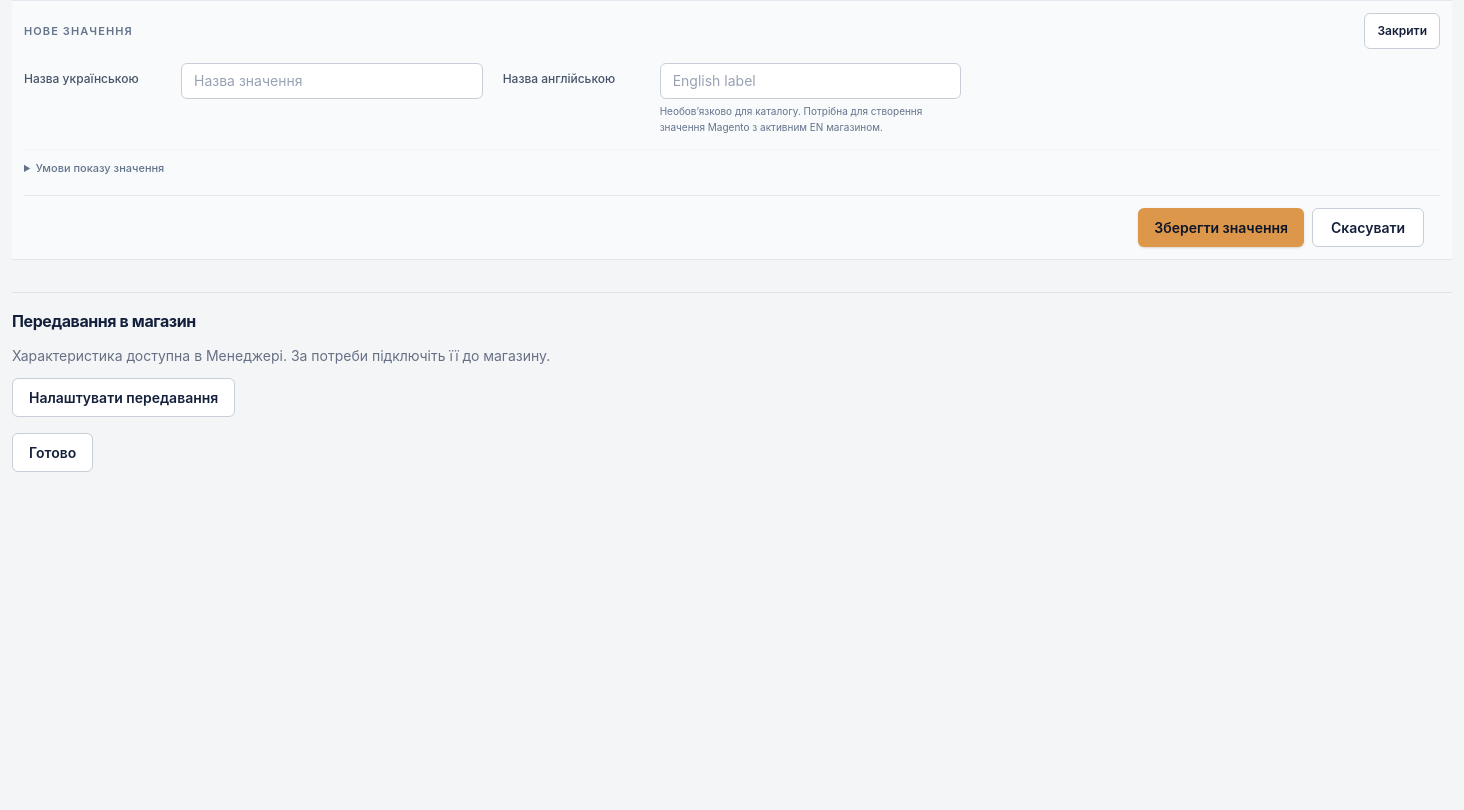
Test: retains the exact newly created value and the local receipt after a failed shop handoff
Step 1. Type "Без кольору" into the field labelled "Назва українською" → (332, 81), box [181,63,483,99]
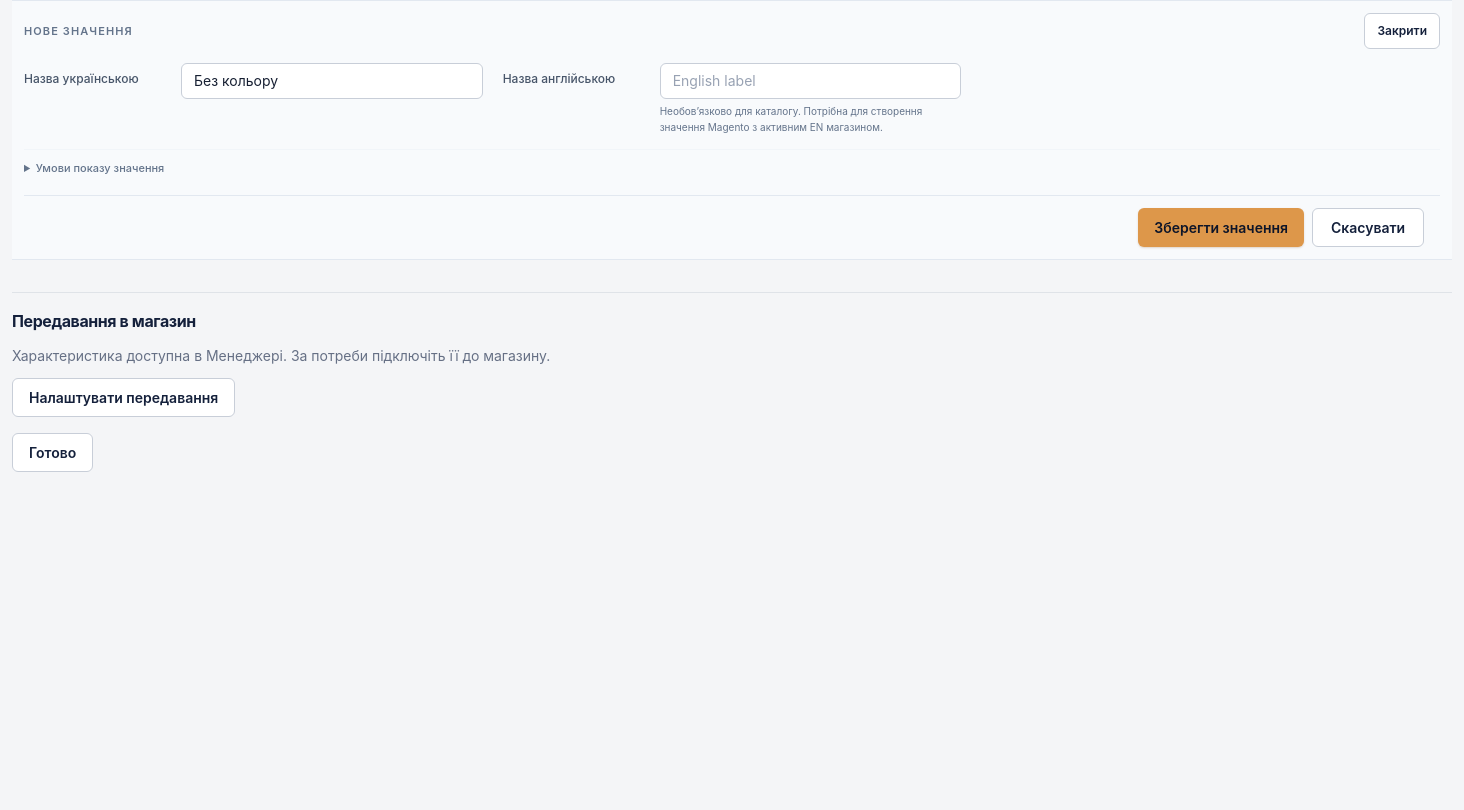
Step 2. Type "Second label" into the field labelled "Назва англійською" → (811, 81), box [660,63,961,99]
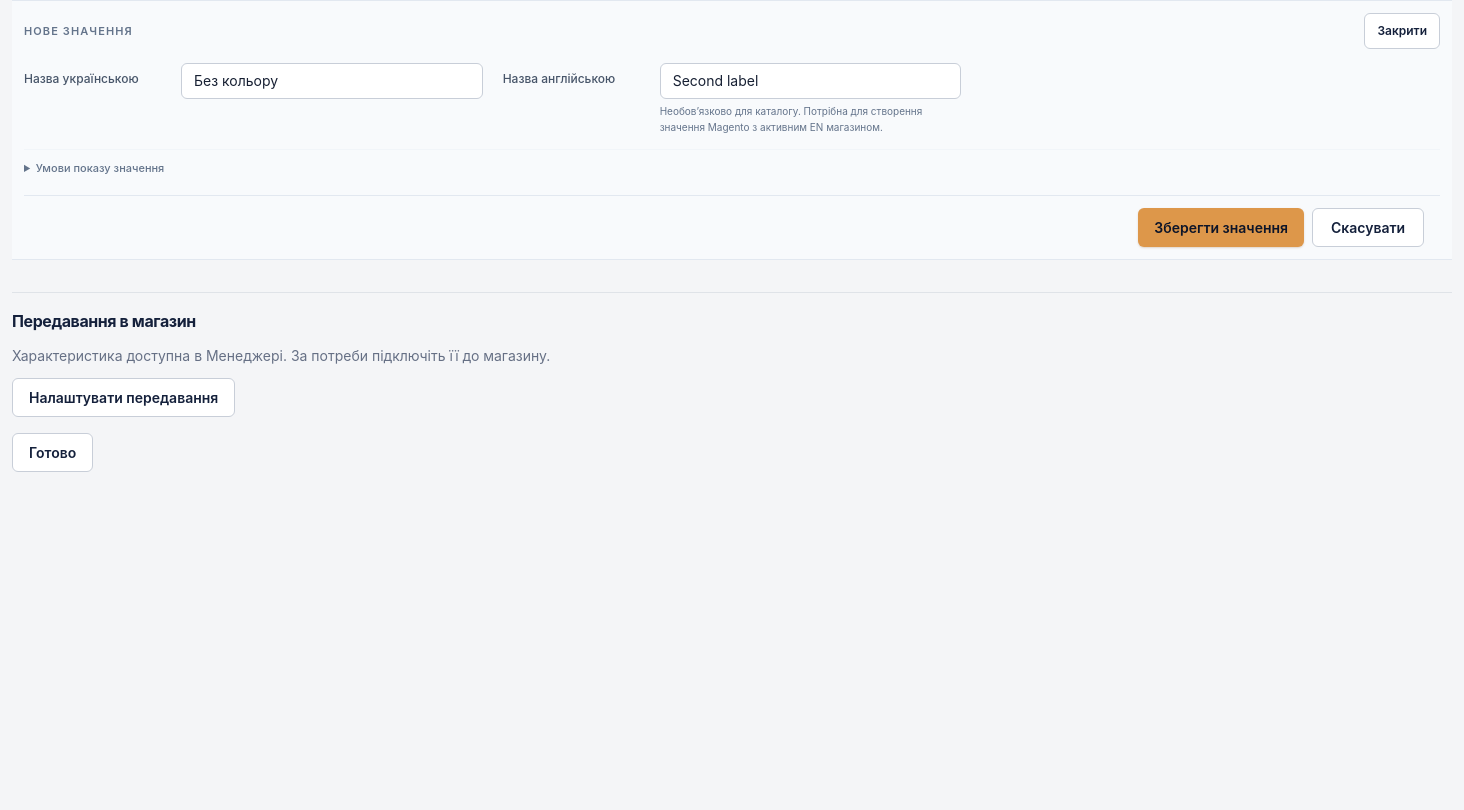
Step 3. Click the button "Зберегти значення" → (1221, 227), box [1138,208,1304,246]
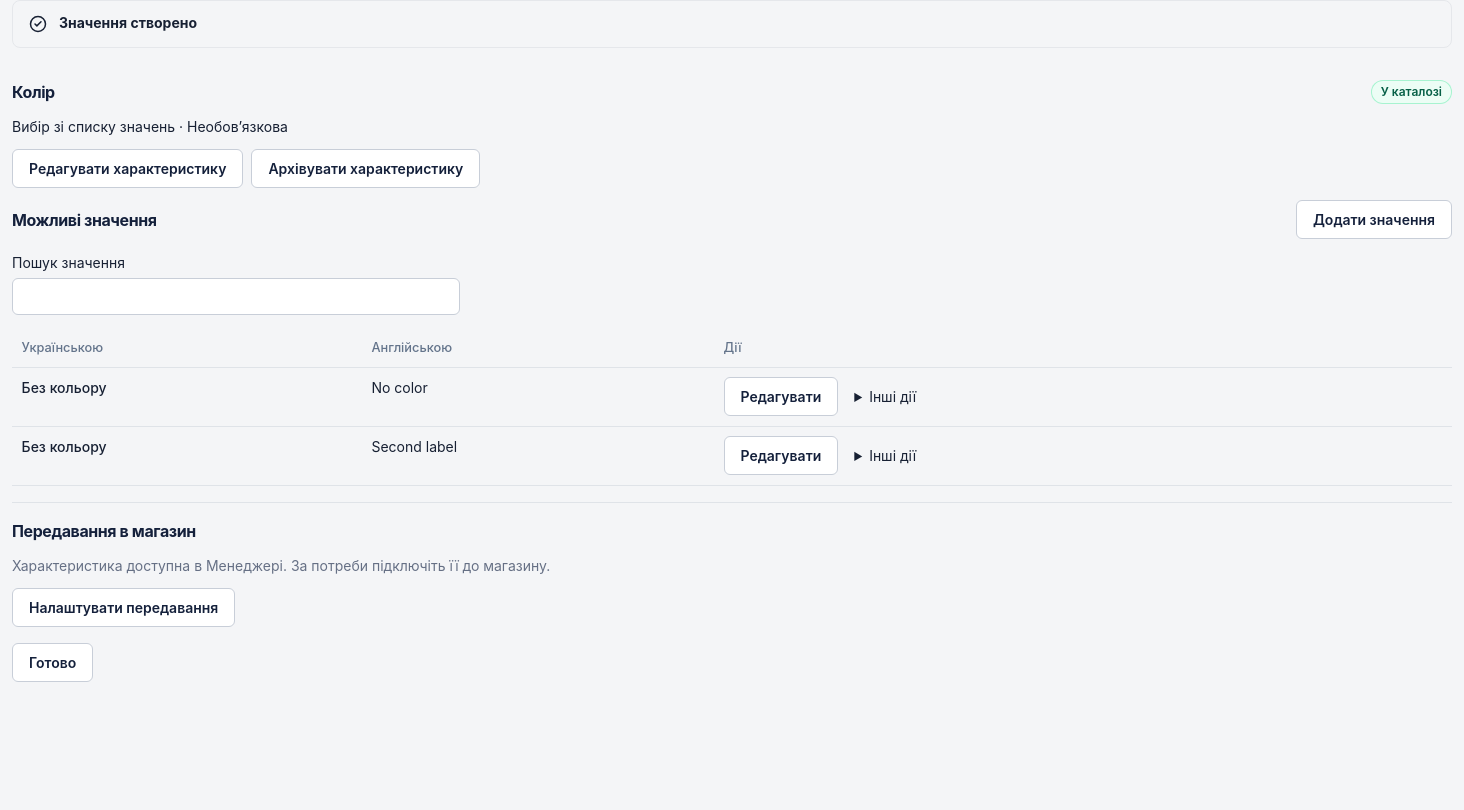
Step 4. Click the button "Налаштувати передавання" → (124, 607), box [12,588,235,627]
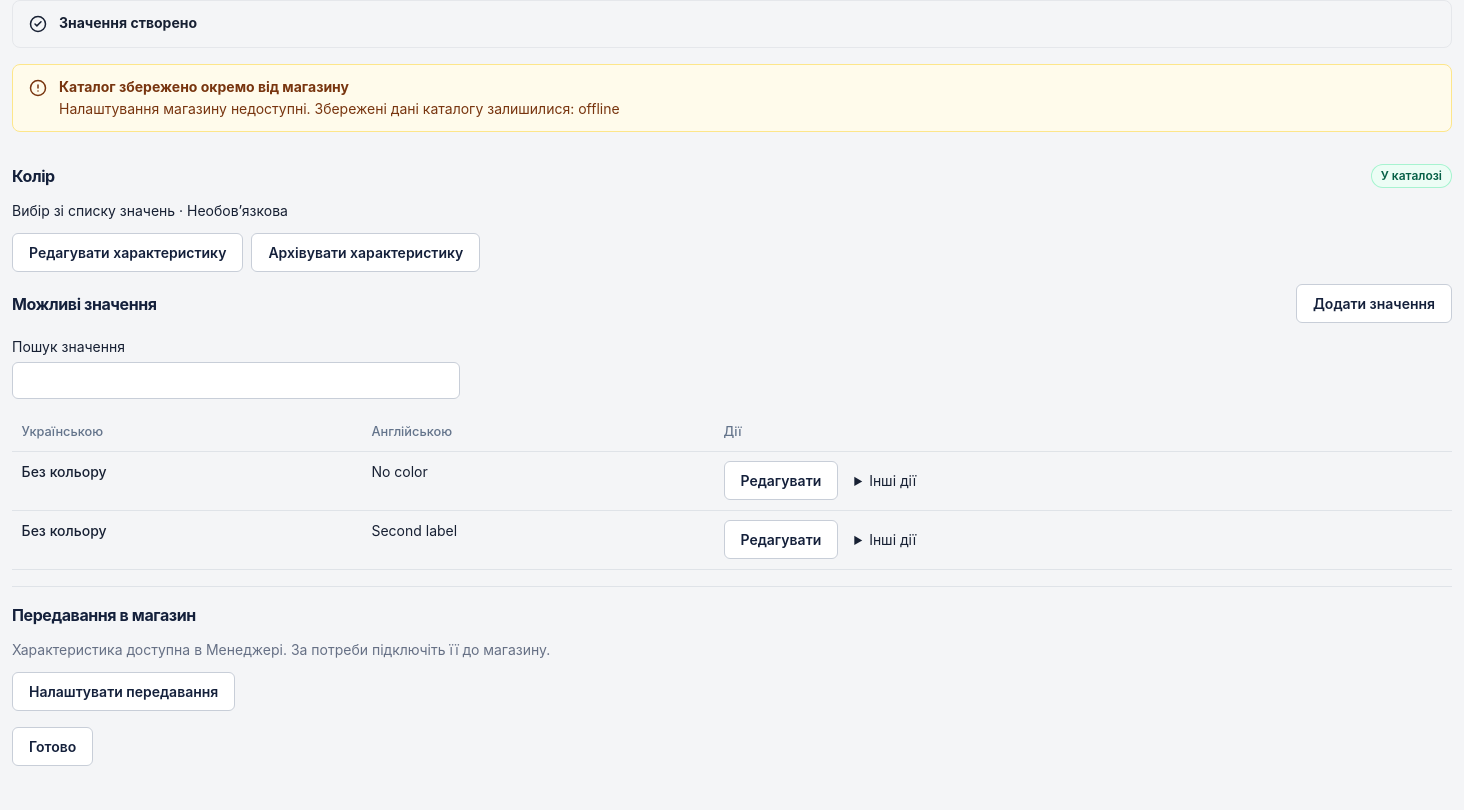
Expected: the text "Second label" is shown, [362,510,714,570]
Expected: the text "Налаштування магазину недоступні" is shown, [59,100,620,117]
